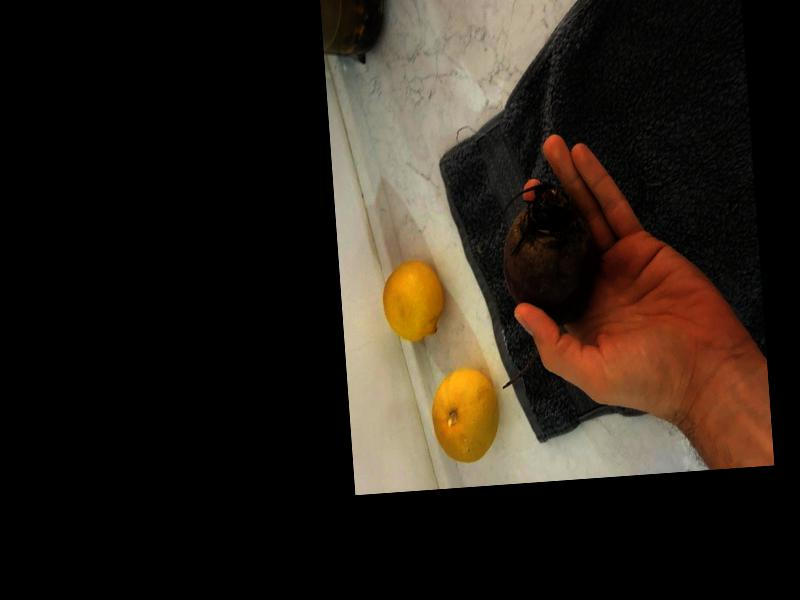Beet: (488, 181, 606, 389)
